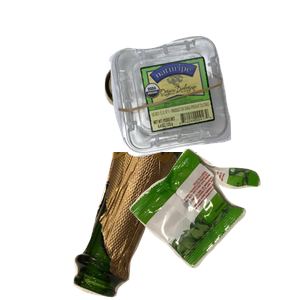glass: (71, 152, 260, 300)
metal: (102, 60, 252, 169)
plastic: (106, 34, 300, 183)
trash: (127, 146, 300, 300)
